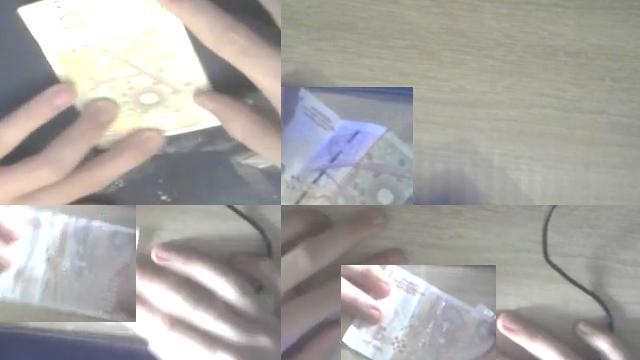10leva: (281, 87, 413, 205), (46, 1, 95, 45)
5leva: (0, 205, 136, 322), (341, 265, 496, 360)
